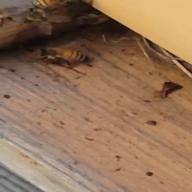Bee: (23, 42, 103, 70)
